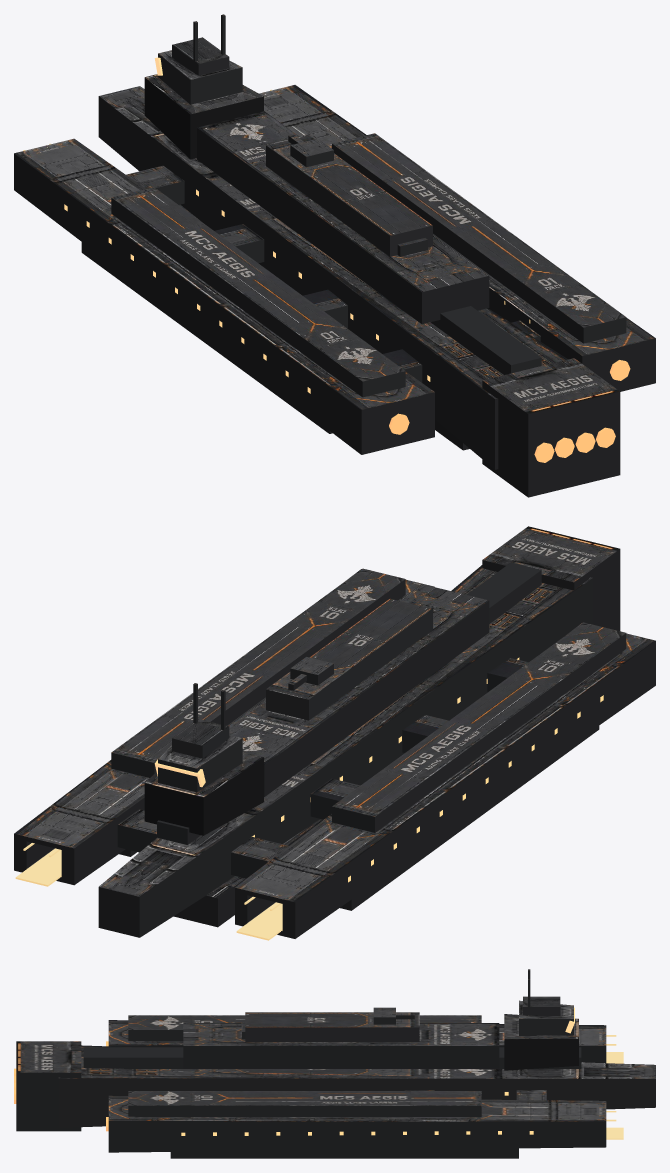
The model's file is bastion_carrier.glb.
3 views of the same model, one above another, from view 1: azimuth 30°, elevation 25°; view 2: azimuth 150°, elevation 25°; view 3: azimuth 270°, elevation 25° (orthographic). The views are drawn at different scales.
Parts seen in each view (by area): view 1: Bastion_Pod_Port, Bastion_Hull, Bastion_DeckLow, Bastion_PodRidge_Port, Bastion_PodRidge_Stbd, Bastion_Stern, Bastion_Pod_Stbd, Bastion_DeckUp, Bastion_BridgeBase, Bastion_Spine, Bastion_BridgeMid, Bastion_PodKeel_Port (+5 smaller); view 2: Bastion_Hull, Bastion_Pod_Port, Bastion_PodRidge_Port, Bastion_DeckLow, Bastion_PodRidge_Stbd, Bastion_Pod_Stbd, Bastion_DeckUp, Bastion_Stern, Bastion_BridgeBase, Bastion_Spine, Bastion_BridgeMid, Bastion_PodKeel_Port (+10 smaller); view 3: Bastion_Pod_Stbd, Bastion_Hull, Bastion_DeckLow, Bastion_PodRidge_Stbd, Bastion_DeckUp, Bastion_Stern, Bastion_PodKeel_Stbd, Bastion_BridgeBase, Bastion_Spine, Bastion_PodRidge_Port, Bastion_Pod_Port, Bastion_BridgeMid (+3 smaller).
Boxes of the visible parts, x1=… form: Bastion_Pod_Port: x1=14, y1=138, x2=434, y2=454; Bastion_Hull: x1=98, y1=86, x2=567, y2=469; Bastion_DeckLow: x1=197, y1=111, x2=489, y2=324; Bastion_PodRidge_Port: x1=111, y1=187, x2=405, y2=397; Bastion_PodRidge_Stbd: x1=332, y1=133, x2=626, y2=343; Bastion_Stern: x1=482, y1=358, x2=620, y2=497; Bastion_Pod_Stbd: x1=259, y1=85, x2=655, y2=391; Bastion_DeckUp: x1=266, y1=135, x2=432, y2=256; Bastion_BridgeBase: x1=144, y1=74, x2=263, y2=159; Bastion_Spine: x1=430, y1=306, x2=541, y2=374; Bastion_BridgeMid: x1=158, y1=50, x2=242, y2=104; Bastion_PodKeel_Port: x1=81, y1=242, x2=332, y2=433; Bastion_Hull: x1=98, y1=565, x2=593, y2=937; Bastion_Pod_Port: x1=235, y1=622, x2=655, y2=938; Bastion_PodRidge_Port: x1=332, y1=622, x2=626, y2=832; Bastion_DeckLow: x1=228, y1=584, x2=489, y2=796; Bastion_PodRidge_Stbd: x1=111, y1=568, x2=405, y2=777; Bastion_Pod_Stbd: x1=14, y1=569, x2=434, y2=885; Bastion_DeckUp: x1=266, y1=598, x2=432, y2=720; Bastion_Stern: x1=482, y1=526, x2=620, y2=630; Bastion_BridgeBase: x1=144, y1=752, x2=263, y2=835; Bastion_Spine: x1=157, y1=562, x2=541, y2=844; Bastion_BridgeMid: x1=158, y1=735, x2=242, y2=792; Bastion_PodKeel_Port: x1=340, y1=726, x2=599, y2=910; Bastion_Pod_Stbd: x1=108, y1=1095, x2=606, y2=1152; Bastion_Hull: x1=58, y1=1045, x2=655, y2=1127; Bastion_DeckLow: x1=183, y1=1023, x2=499, y2=1068; Bastion_PodRidge_Stbd: x1=128, y1=1091, x2=481, y2=1116; Bastion_DeckUp: x1=245, y1=1012, x2=419, y2=1041; Bastion_Stern: x1=16, y1=1041, x2=81, y2=1131; Bastion_PodKeel_Stbd: x1=170, y1=1148, x2=518, y2=1158; Bastion_BridgeBase: x1=504, y1=1014, x2=578, y2=1070; Bastion_Spine: x1=83, y1=1047, x2=581, y2=1068; Bastion_PodRidge_Port: x1=128, y1=1015, x2=481, y2=1041; Bastion_Pod_Port: x1=108, y1=1020, x2=606, y2=1063; Bastion_BridgeMid: x1=519, y1=1000, x2=573, y2=1035.
Size of the model in its own units: 9.6 by 6.55 by 25.8.
11 materials, 1 textured.
